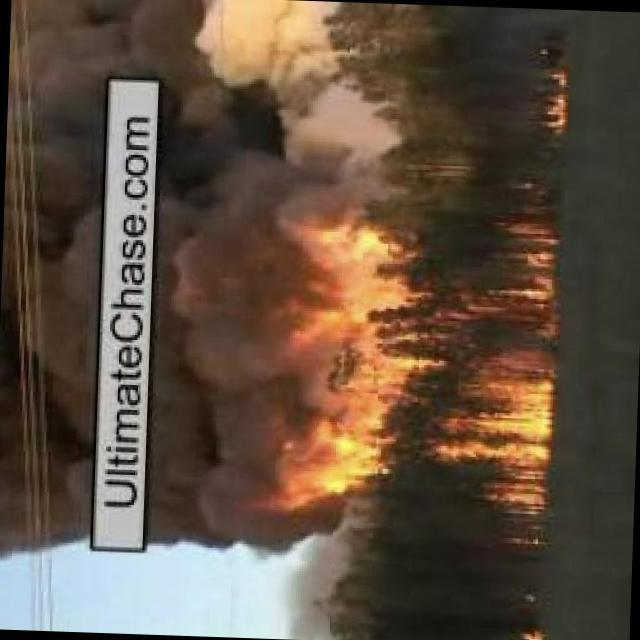Fire: (254, 207, 560, 518), (548, 69, 565, 126), (522, 626, 550, 640)
